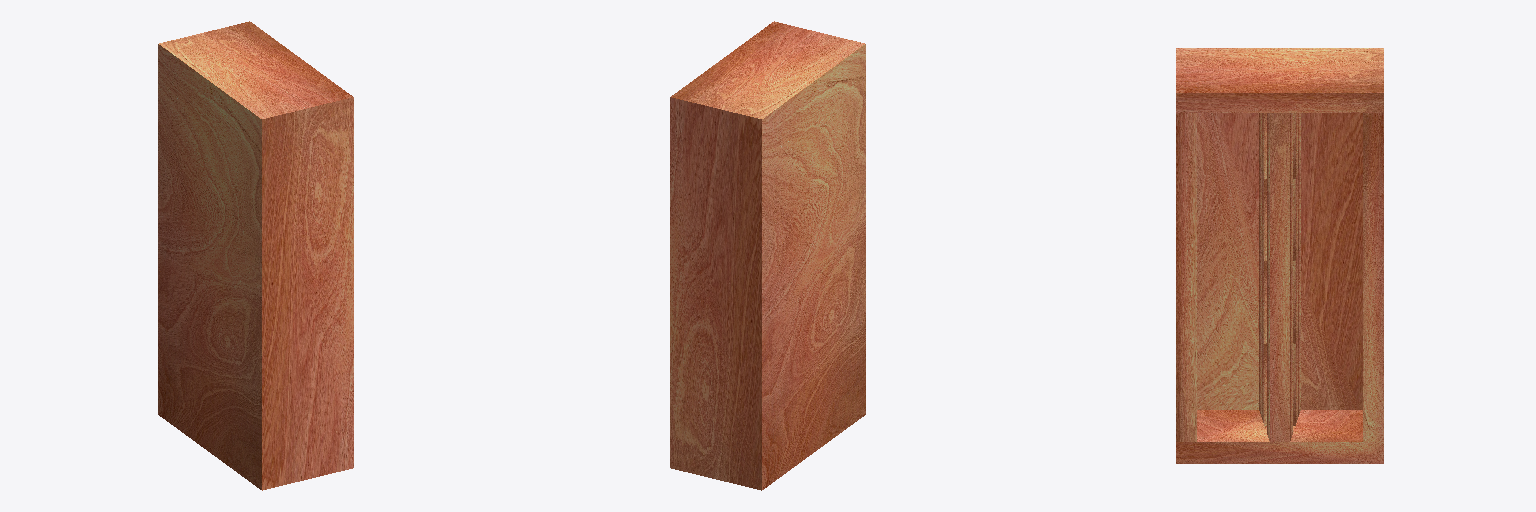
The picture shows the model from 3 angles: view 1: azimuth 30°, elevation 25°; view 2: azimuth 150°, elevation 25°; view 3: azimuth 270°, elevation 25°; orthographic projection.
Visible parts, largest first — view 1: Cube; view 2: Cube; view 3: Cube.
Boxes of the visible parts, x1,y1,x2,y2 form: Cube: [158, 21, 353, 490]; Cube: [670, 21, 865, 490]; Cube: [1176, 48, 1383, 463].
Bounding box in the file's own units: 0.8802 × 3.4 × 1.72.
Materials: 1 (1 with a texture image).